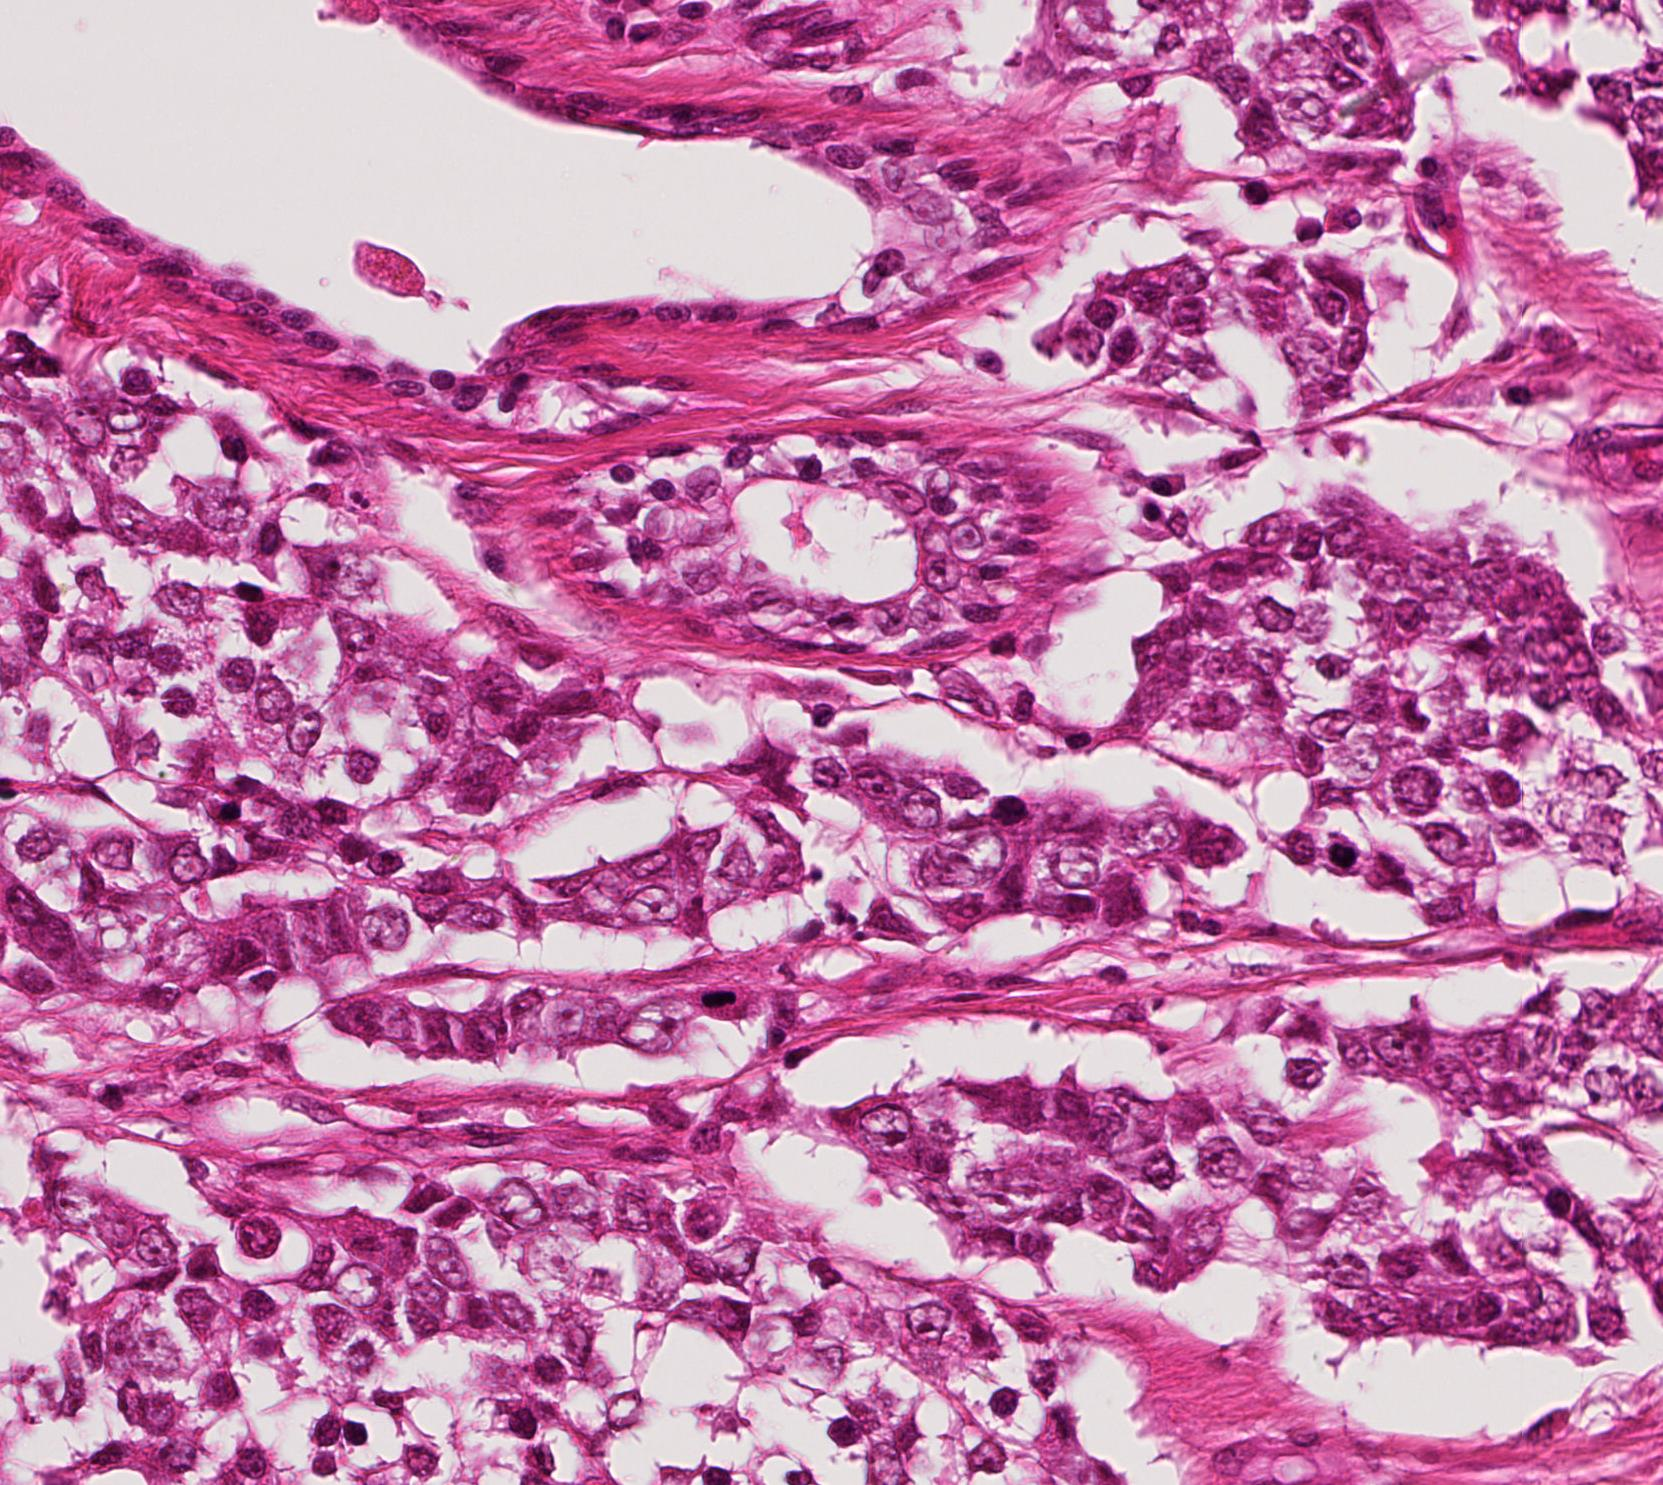mitosis: (1305, 827, 1365, 887), (975, 775, 1035, 836)
